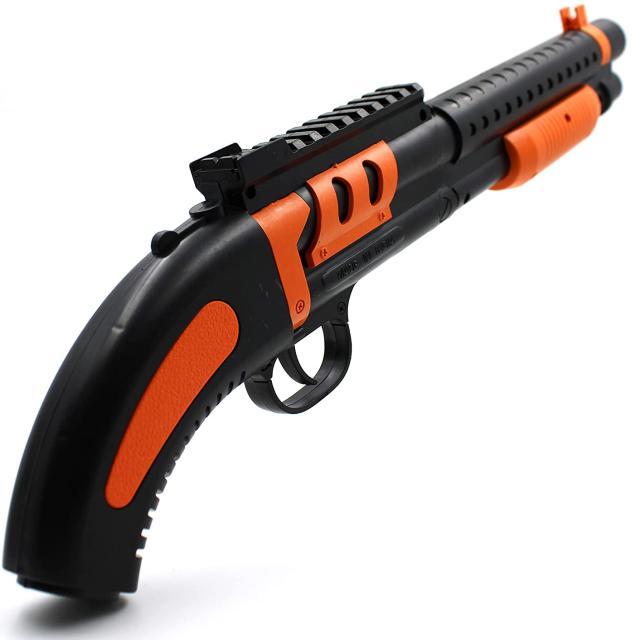Weapon: (3, 6, 625, 601)
